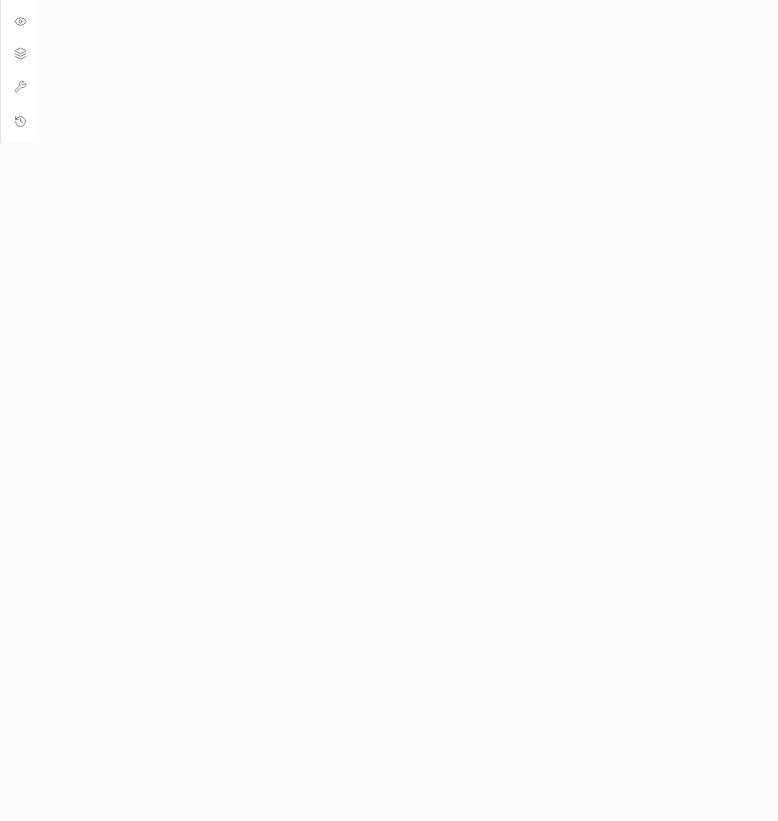
Test: RightRail › click on different button replaces panel (no close)
This screenshot has width=778, height=821.
Click the button with test id "right-rail-view".
click(20, 54)  # box left=5, top=39, right=35, bottom=68
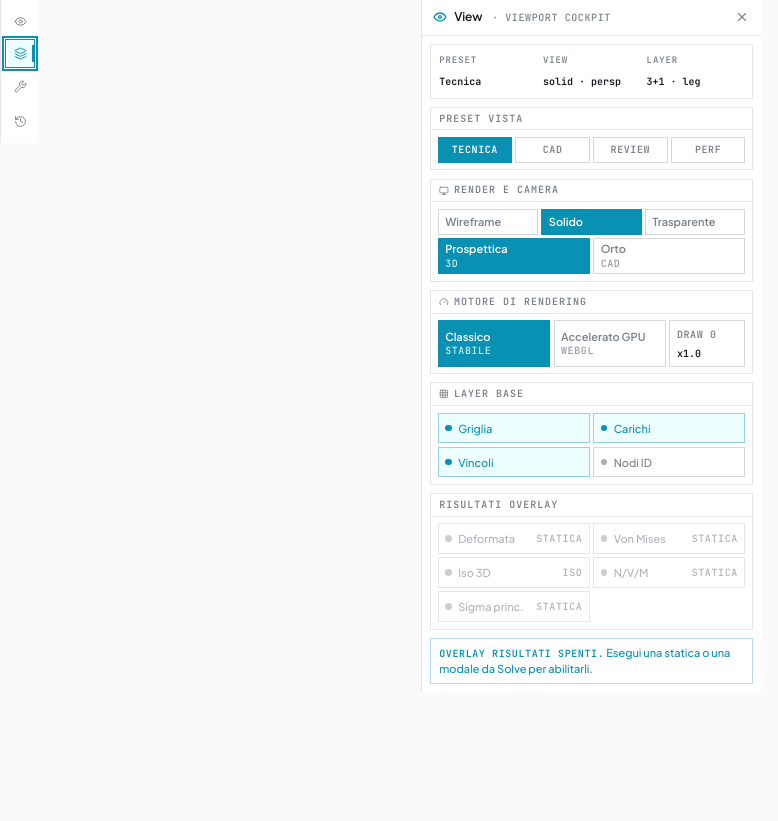
Result: the element with test id "right-panel-view" is shown at left=421, top=0, right=761, bottom=600
Click the button with test id "right-rail-tools".
click(20, 86)  # box left=5, top=72, right=35, bottom=101
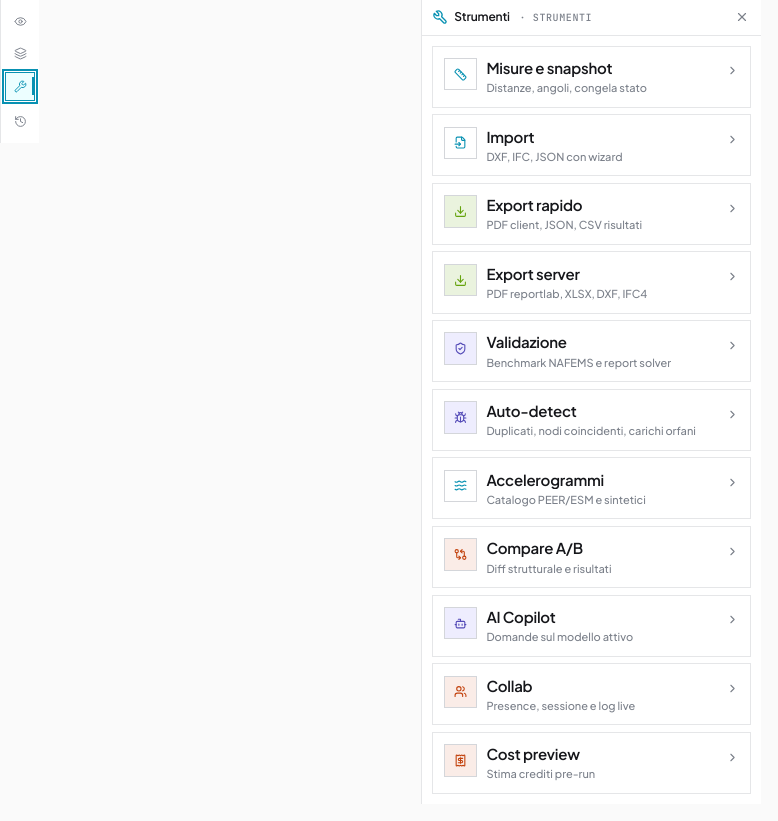
Result: the element with test id "right-panel-tools" is shown at left=421, top=0, right=761, bottom=600
